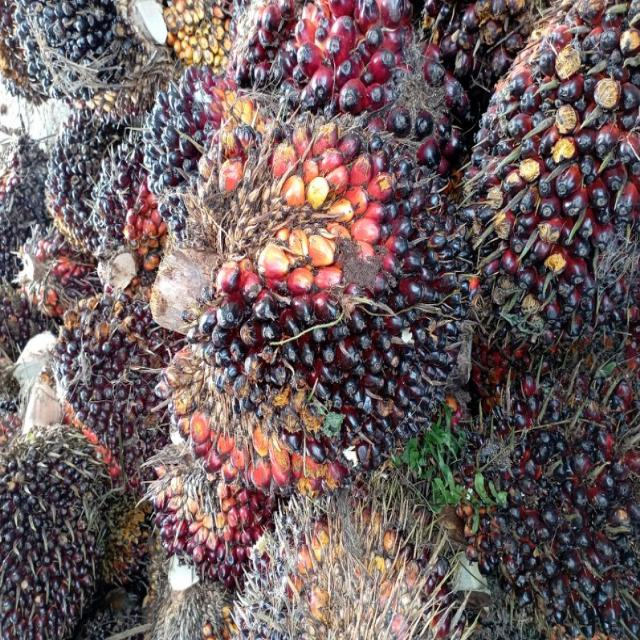fraksi 00: (195, 107, 481, 470), (491, 366, 640, 621), (0, 419, 118, 636), (46, 282, 180, 463), (36, 107, 128, 243), (19, 0, 136, 97), (134, 77, 218, 203)
fraksi 1: (472, 4, 640, 342), (288, 0, 410, 117)
